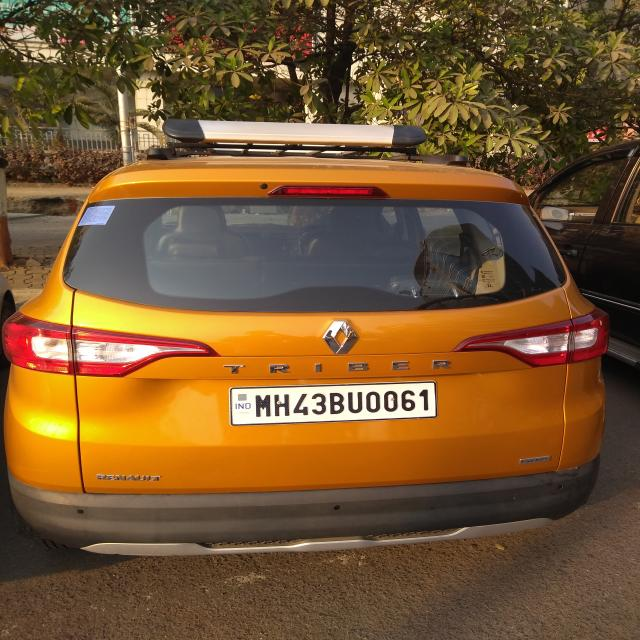Number-Plate: (225, 385, 442, 421)
